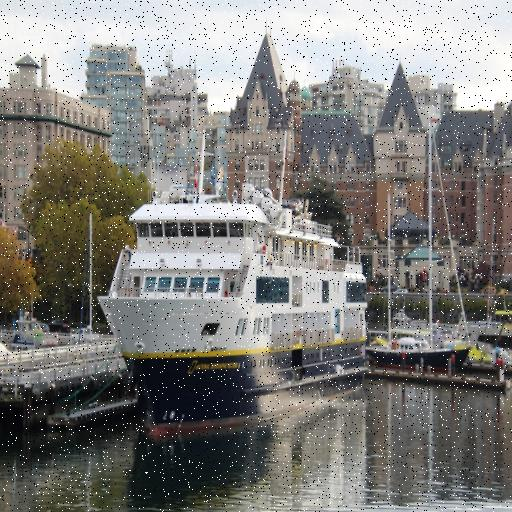cruises: (91, 130, 376, 446)
